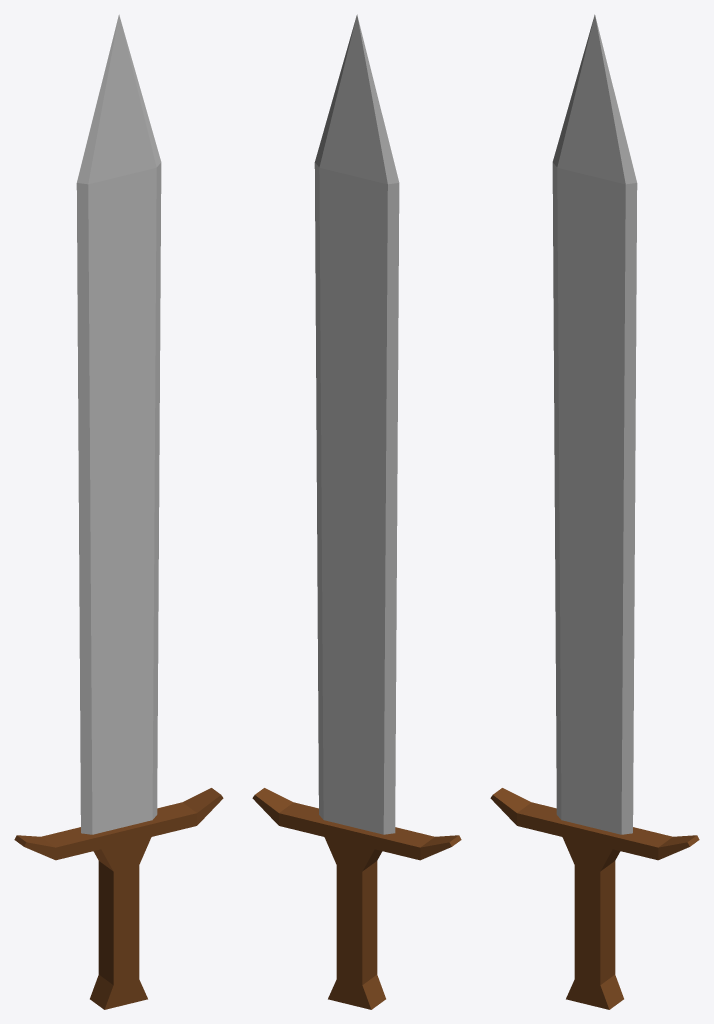
The model's file is Sword.fbx.
3 renders of one model, left to right at view 1: azimuth 30°, elevation 25°; view 2: azimuth 150°, elevation 25°; view 3: azimuth 330°, elevation 25°, orthographic.
Visible parts, largest first — view 1: Blade, Cube; view 2: Blade, Cube; view 3: Blade, Cube.
Part boxes in pixels (<box>): Blade: <box>76,14,161,834</box>; Cube: <box>14,788,223,1009</box>; Blade: <box>314,14,399,834</box>; Cube: <box>252,788,461,1009</box>; Blade: <box>552,14,637,834</box>; Cube: <box>490,788,699,1009</box>.
Size of the model in its own units: 72 by 340 by 9.25.
